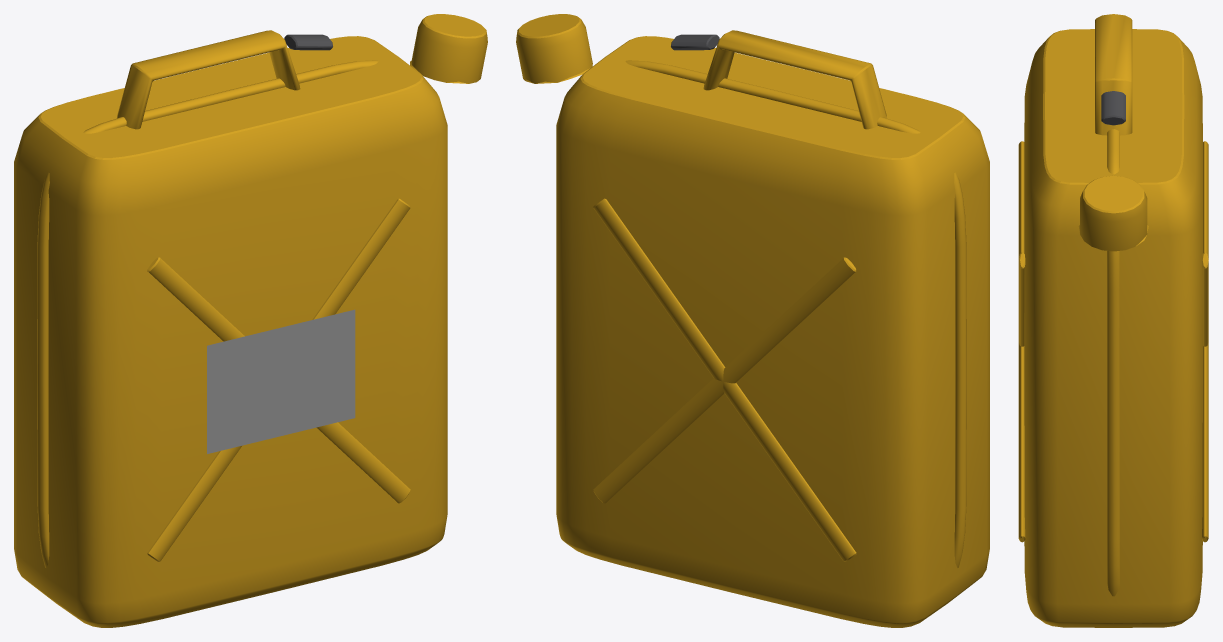
The model's file is fuel_can.glb.
3 views of the same model, side by side, from view 1: azimuth 30°, elevation 25°; view 2: azimuth 150°, elevation 25°; view 3: azimuth 270°, elevation 25° (orthographic). The views are drawn at different scales.
Visible parts, largest first — view 1: fuel_can; view 2: fuel_can; view 3: fuel_can.
Part boxes in pixels (x1,y1,x2,y2): fuel_can: (14, 14, 487, 627); fuel_can: (516, 14, 989, 627); fuel_can: (1018, 14, 1208, 627).
Bounding box in the file's own units: 0.3006 × 0.3378 × 0.117.
